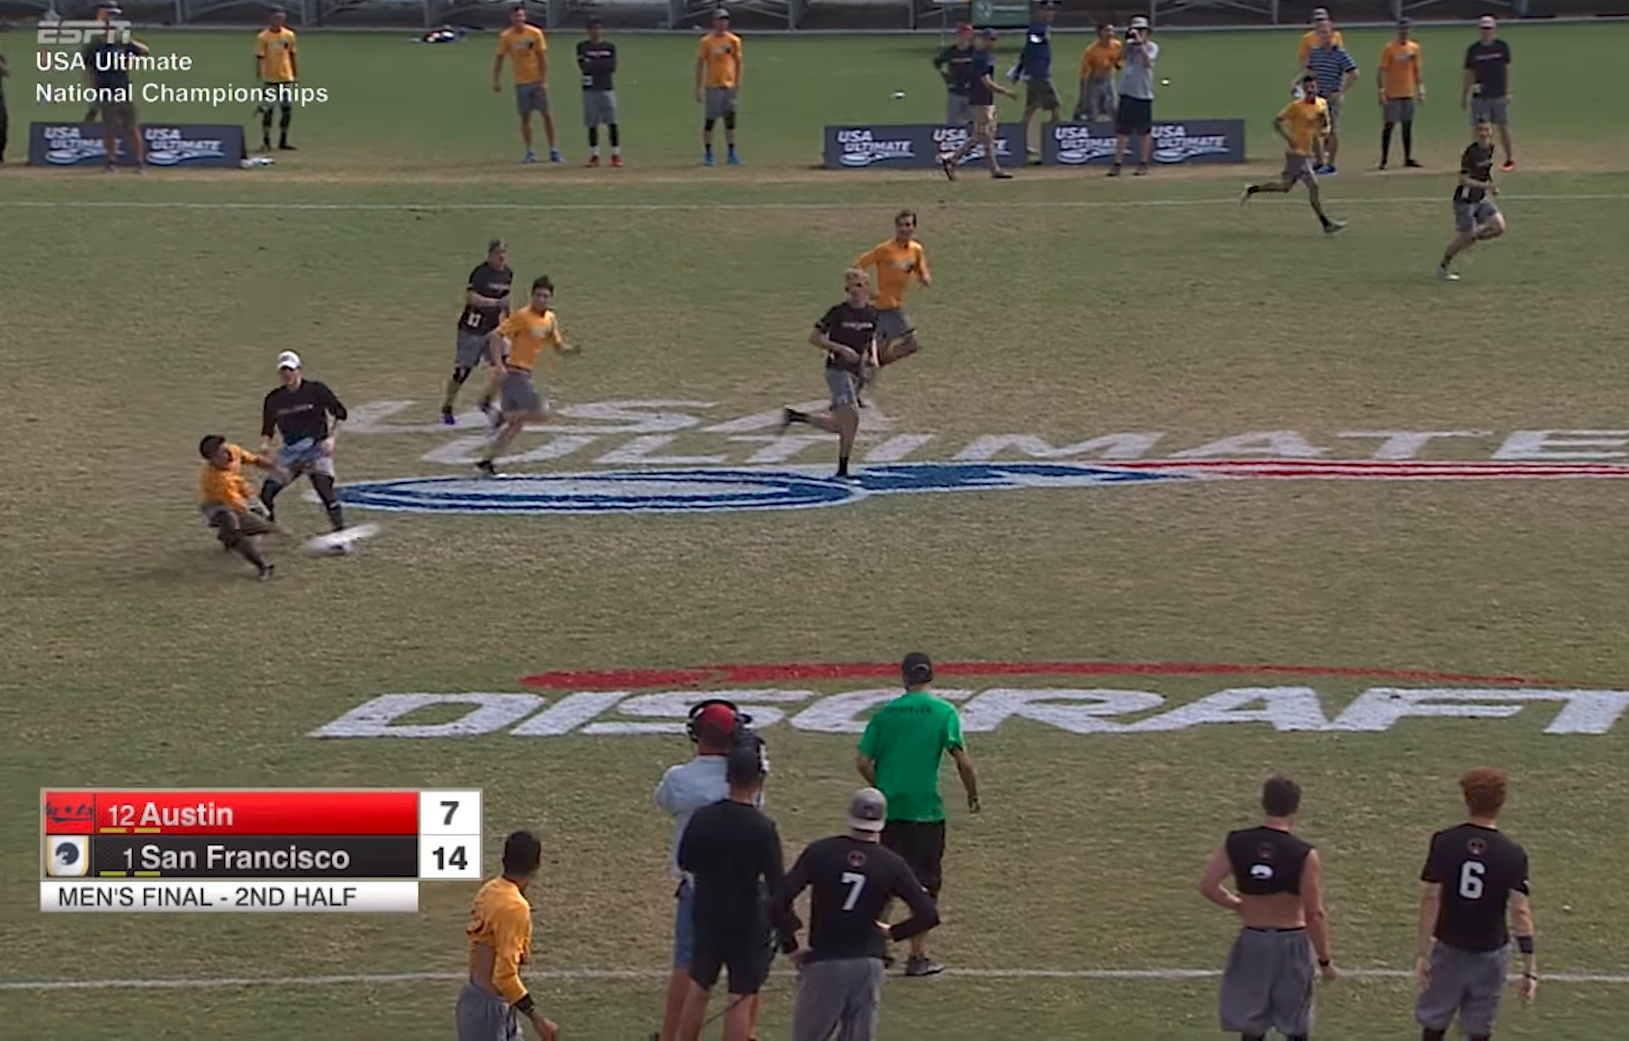frisbee: (309, 521, 378, 548)
